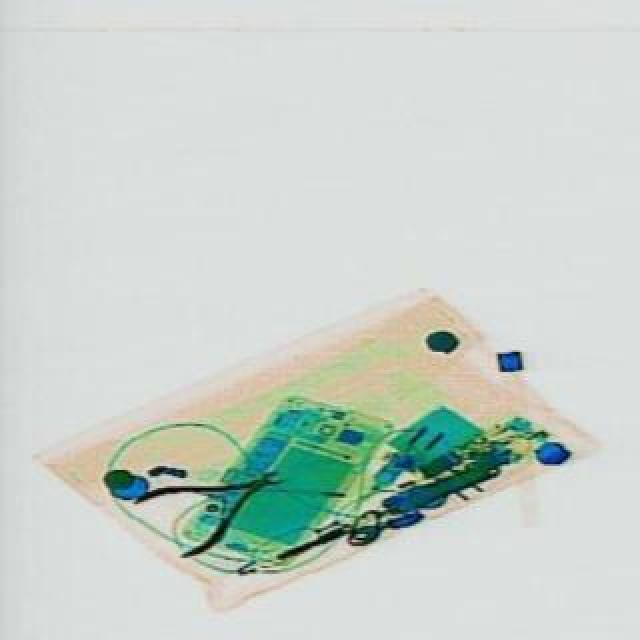wrench: (128, 438, 296, 566)
